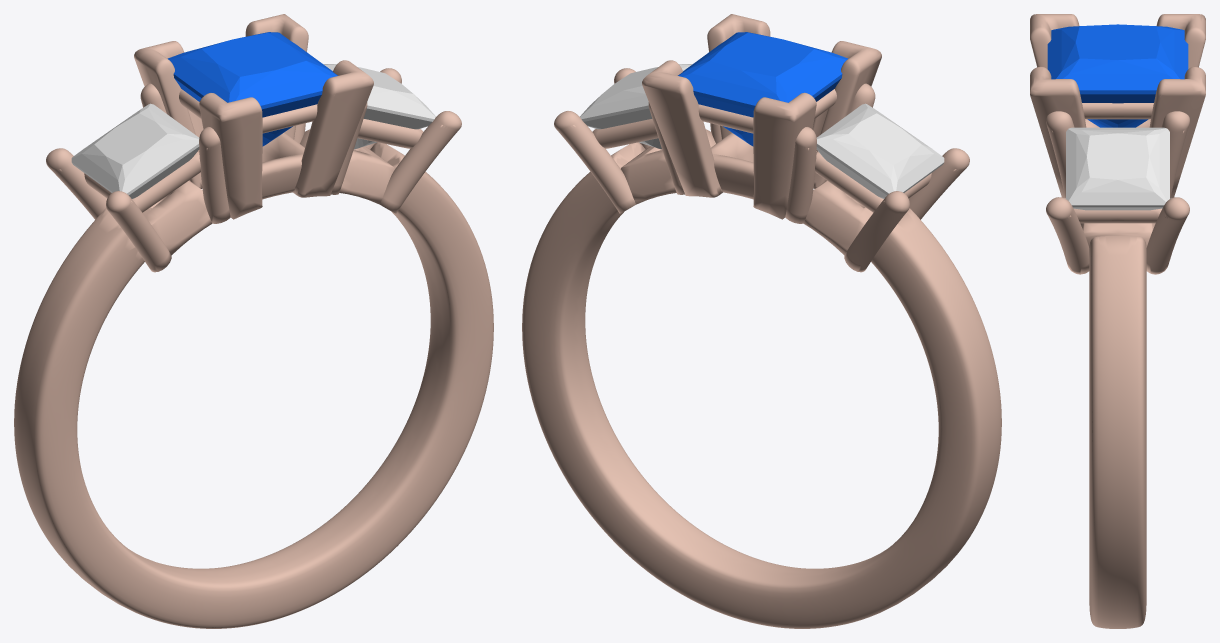
Rendered from bluesapphire-princess-rosegold-protectededges4prongs-straightband-3stone.glb.
The picture shows the model from 3 angles, left to right: view 1: azimuth 30°, elevation 25°; view 2: azimuth 150°, elevation 25°; view 3: azimuth 270°, elevation 25°; orthographic projection.
Visible parts, largest first — view 1: metal, stone, side.001, side; view 2: metal, stone, side.001, side; view 3: metal, stone, side.
Boxes of the visible parts, <box> form: metal: <box>14,14,493,628</box>; stone: <box>167,32,337,146</box>; side.001: <box>71,103,199,198</box>; side: <box>323,64,435,149</box>; metal: <box>522,14,1001,628</box>; stone: <box>678,32,848,146</box>; side.001: <box>816,103,944,198</box>; side: <box>580,64,692,149</box>; metal: <box>1030,14,1205,628</box>; stone: <box>1047,24,1188,127</box>; side: <box>1066,127,1169,210</box>.
Size of the model in its own units: 20.51 by 23.85 by 6.77.
